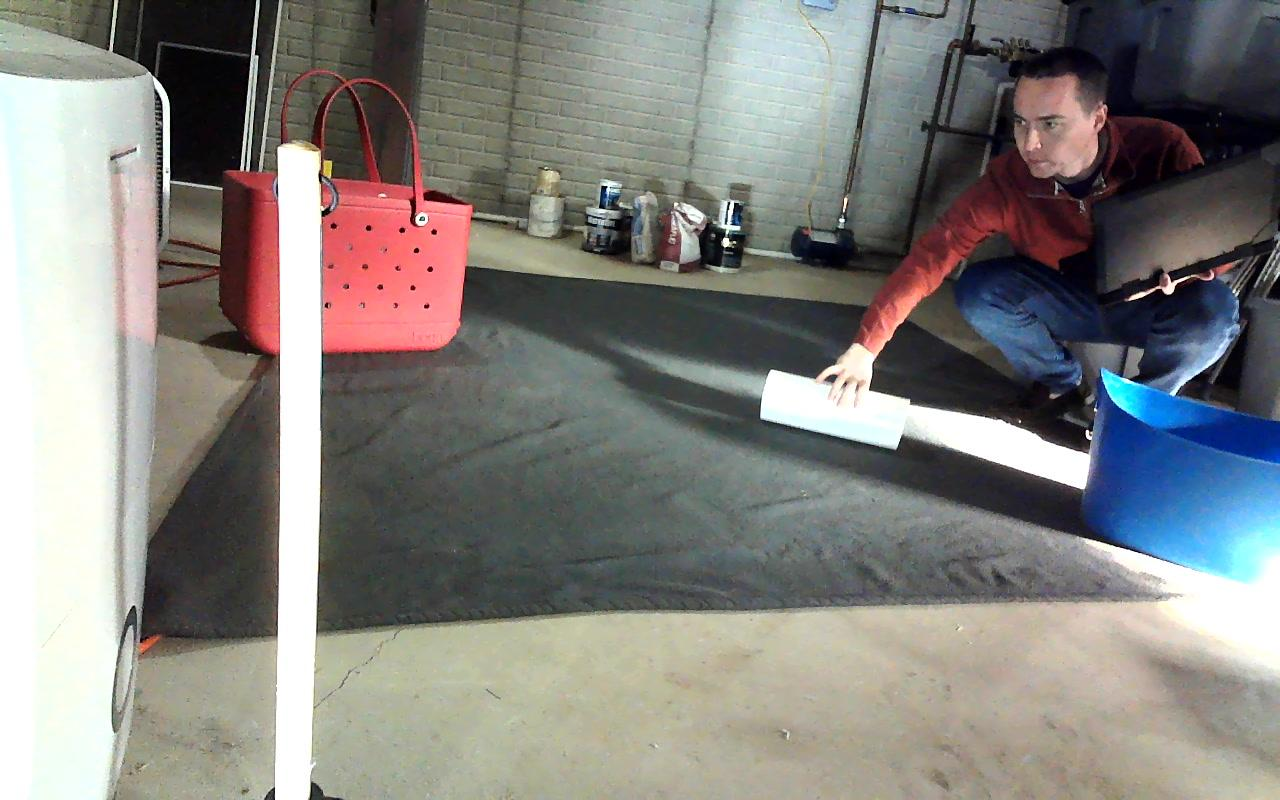coral: (759, 371, 909, 450)
